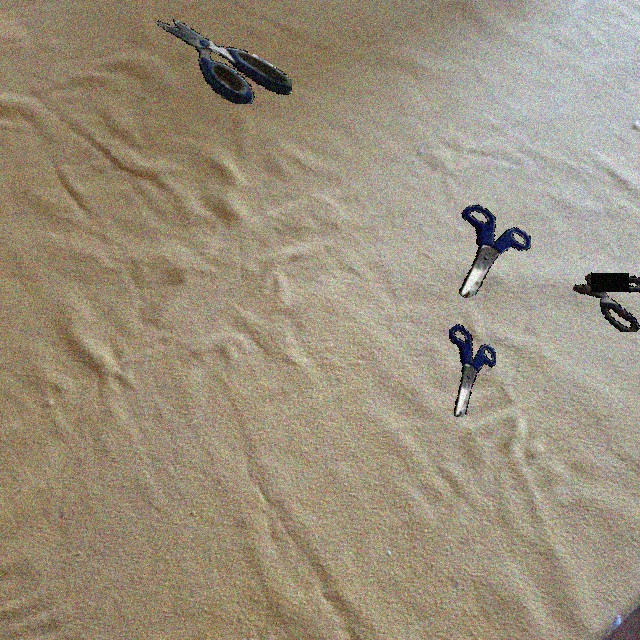scissors: (156, 19, 292, 104), (459, 204, 531, 298), (449, 324, 496, 417), (573, 272, 640, 332)
